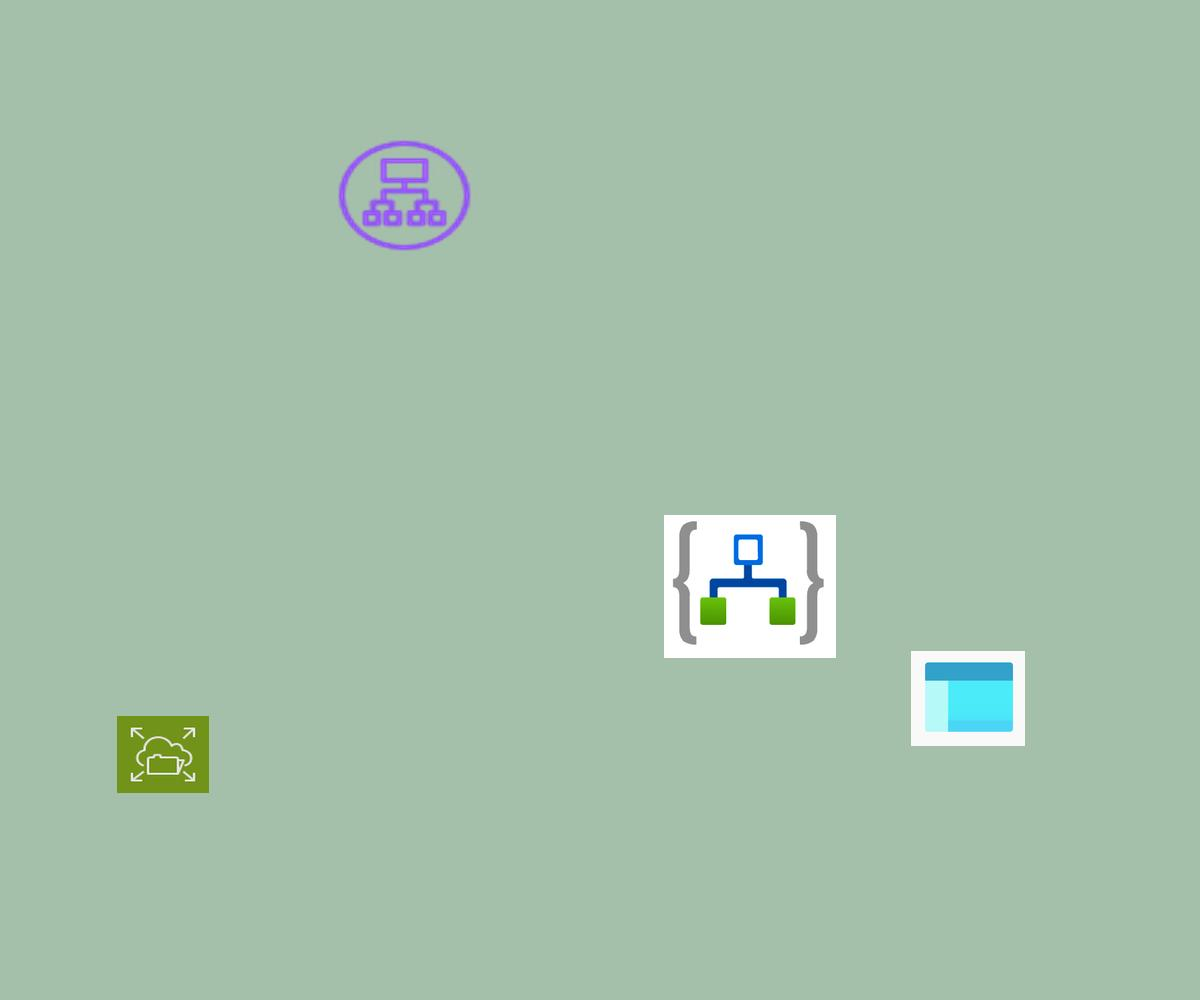AWS-EFS: (117, 716, 209, 793)
AWS-Res_Elastic-Load-Balancing_Application-Load-Balancer: (333, 136, 476, 255)
Azure_integration-204-Logic-Apps: (664, 515, 836, 658)
Azure_management-portal: (911, 651, 1025, 746)
